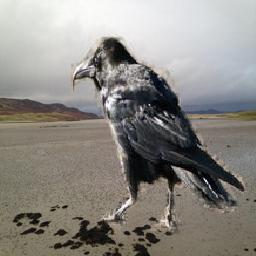Crow: (71, 34, 247, 238)
